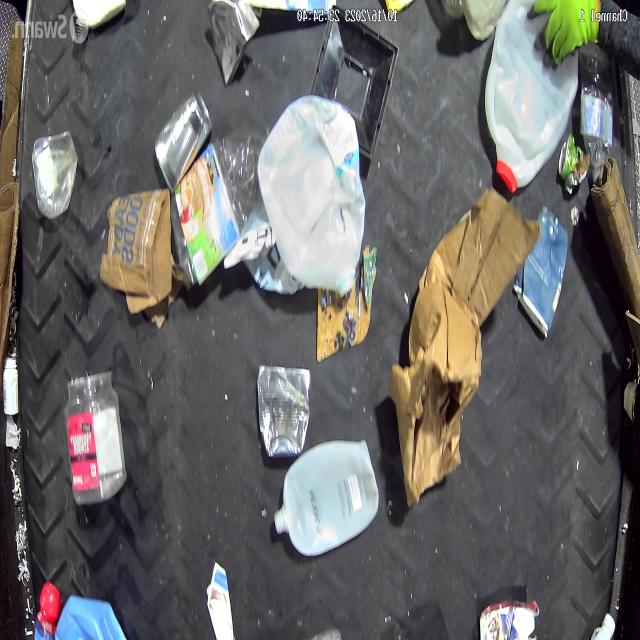can: (152, 90, 213, 196), (257, 364, 312, 458), (202, 0, 258, 88), (558, 133, 589, 191)
milk_jug: (259, 95, 363, 291), (485, 0, 576, 190)
non_white_jug: (50, 594, 136, 640)
plastic_bottle: (168, 130, 265, 290), (579, 41, 610, 179)
